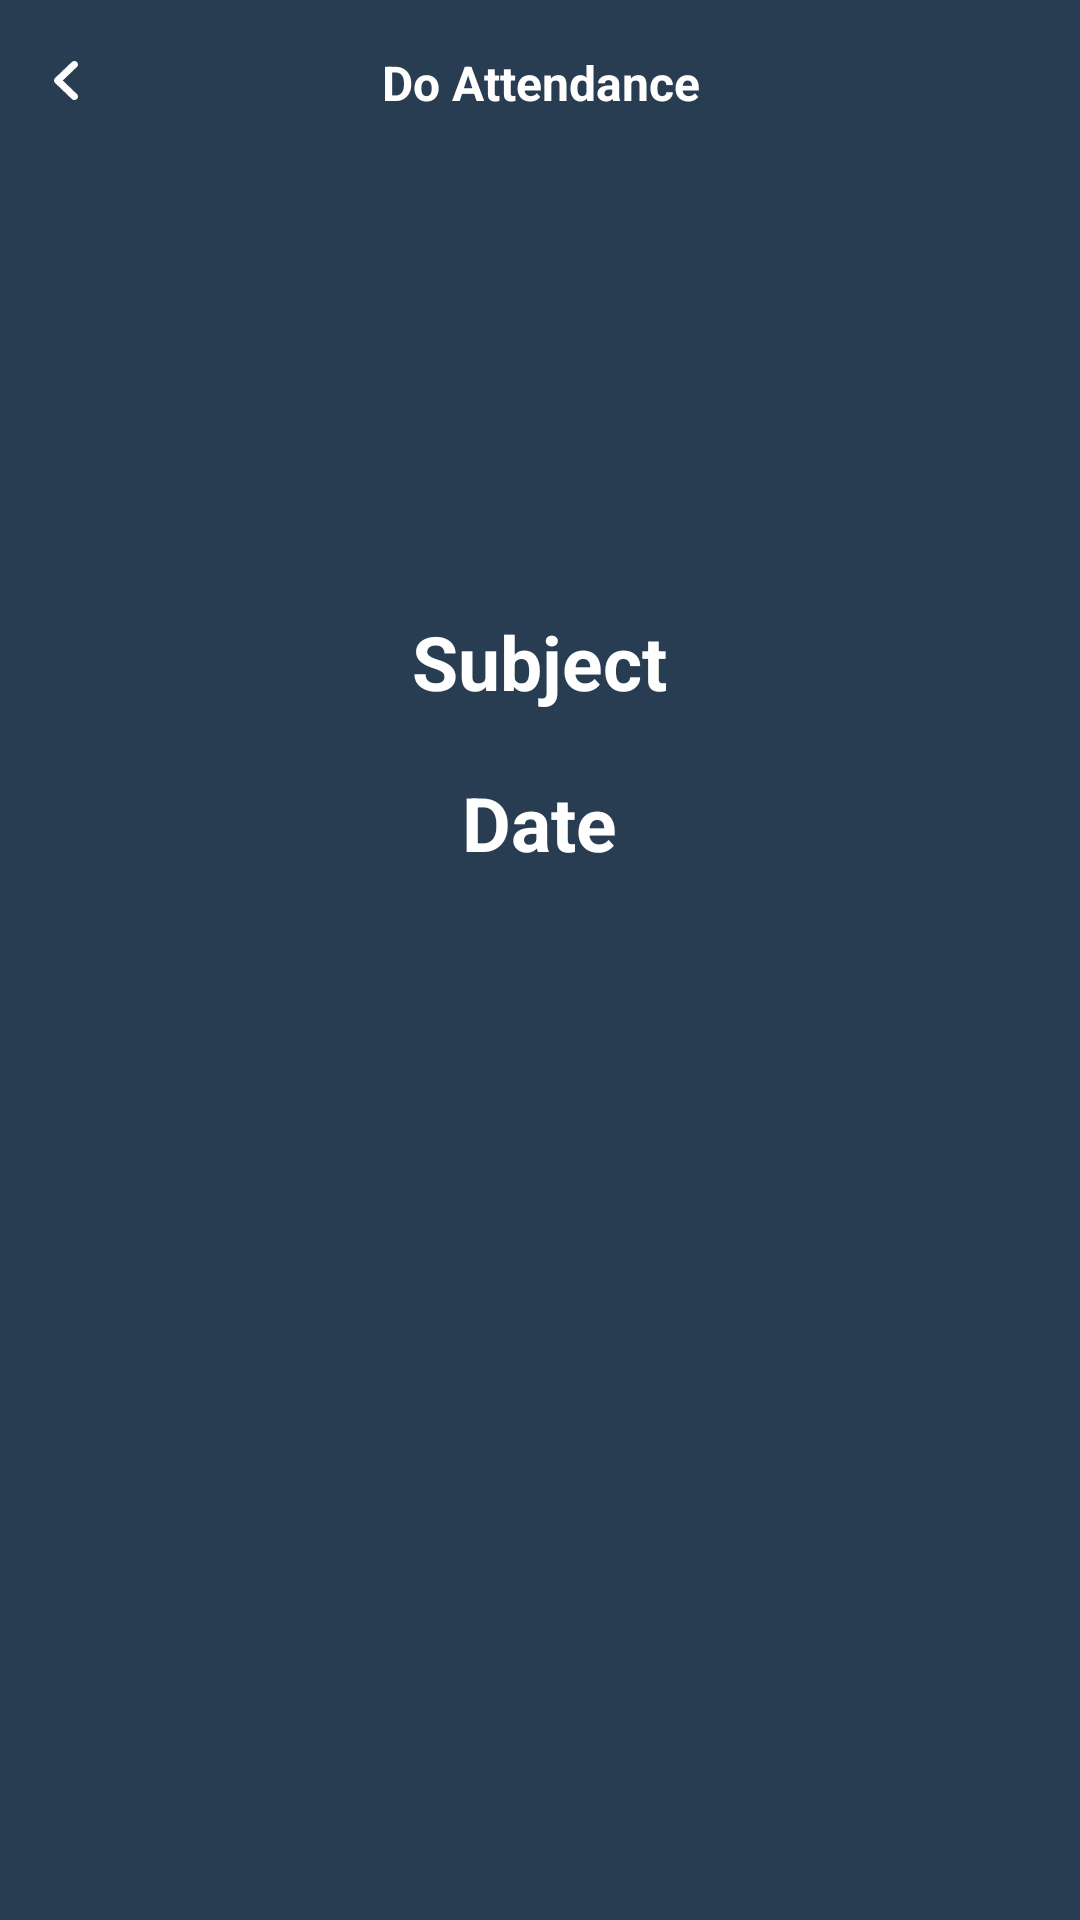

Icon bounding boxes for this 1080 × 1920 phone screenshot, format bbox(x1, y1, x2, y2):
back: bbox(54, 61, 78, 100)
